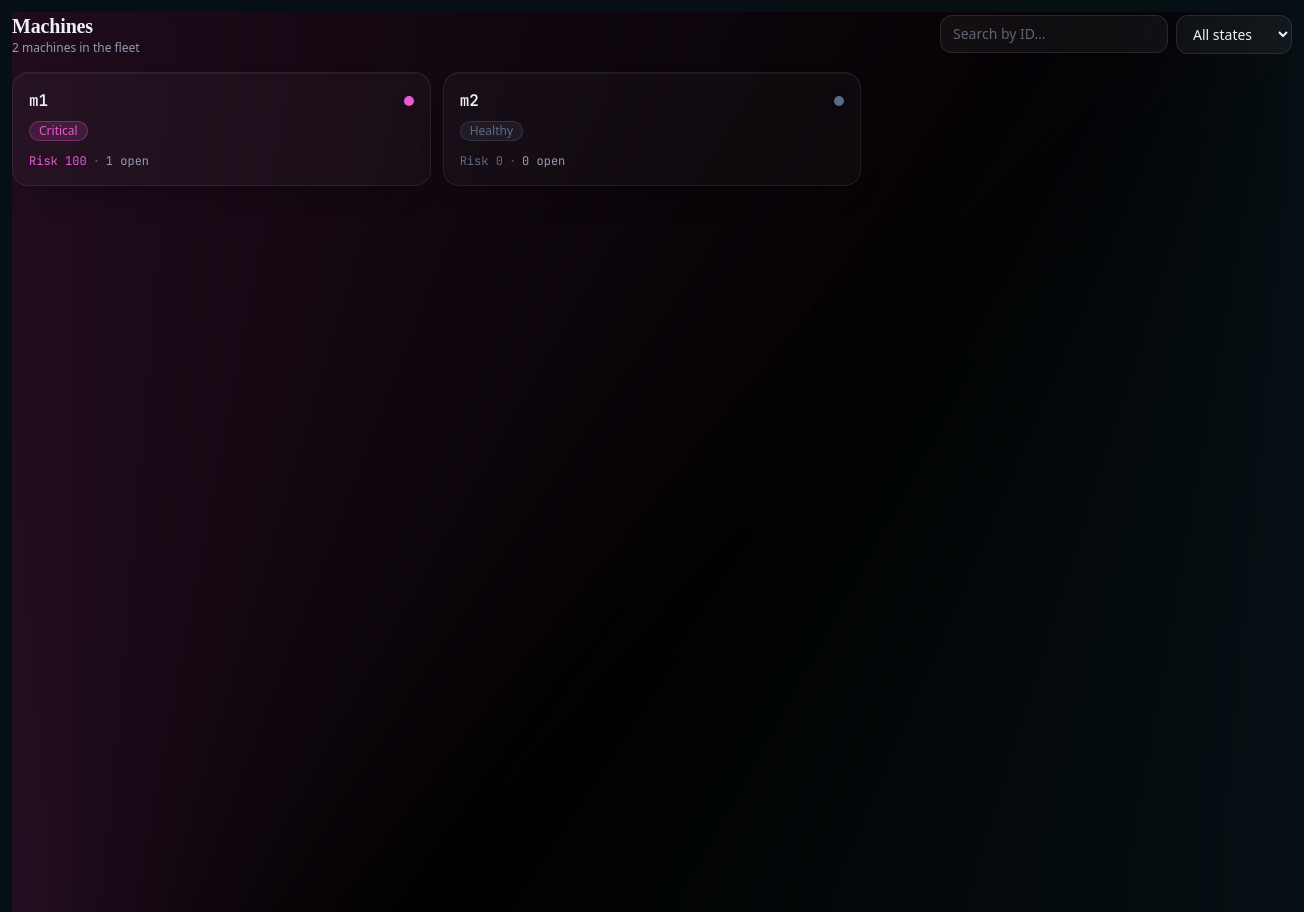
MachinesPage › shows an empty state when no machine matches the filter
This screenshot has width=1304, height=912.
Expected: the button "m1 Critical Risk 100 · 1 open" is shown, [12,72,431,186]
Type "does-not-exist" into the search field named "search machines" at (1054, 34), box [940,15,1168,53]
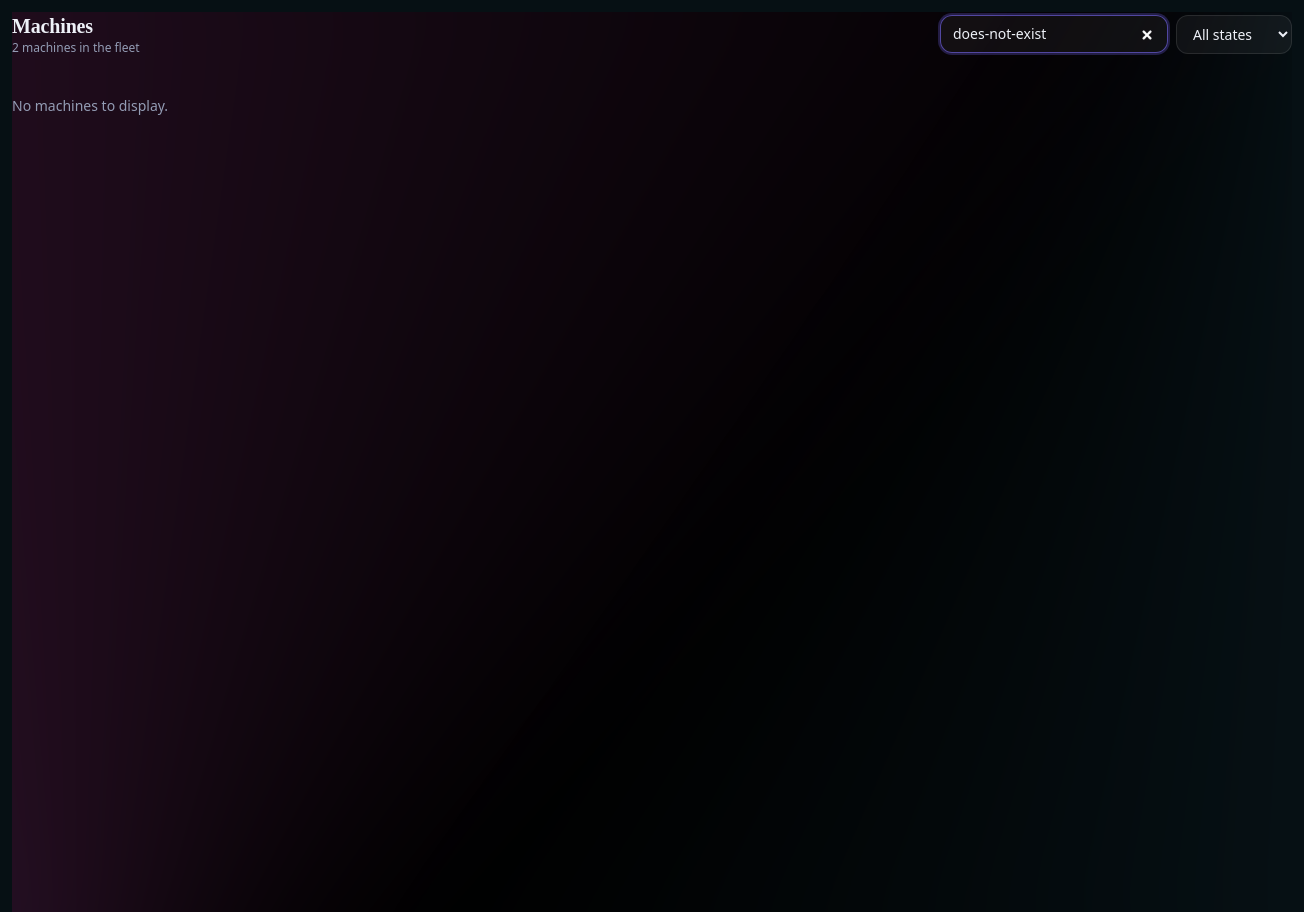
Now the text "No machines to display." is shown, box [12,96,168,115]
